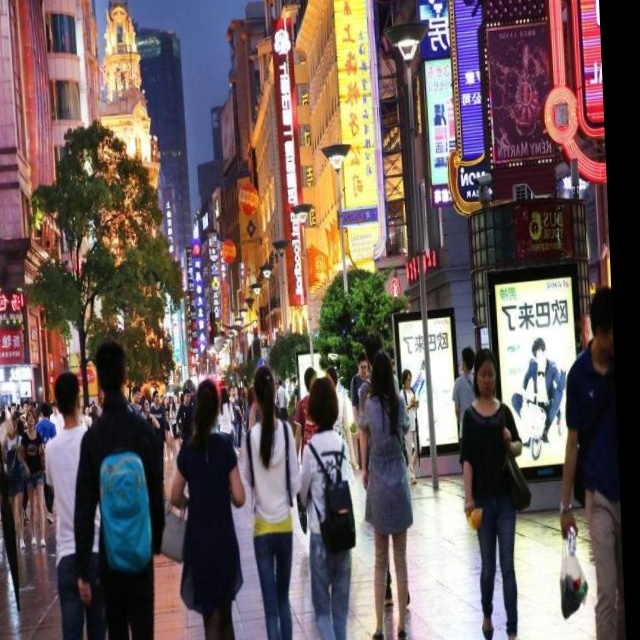Sin_Casco_Mascarrilla: (471, 351, 500, 401)
